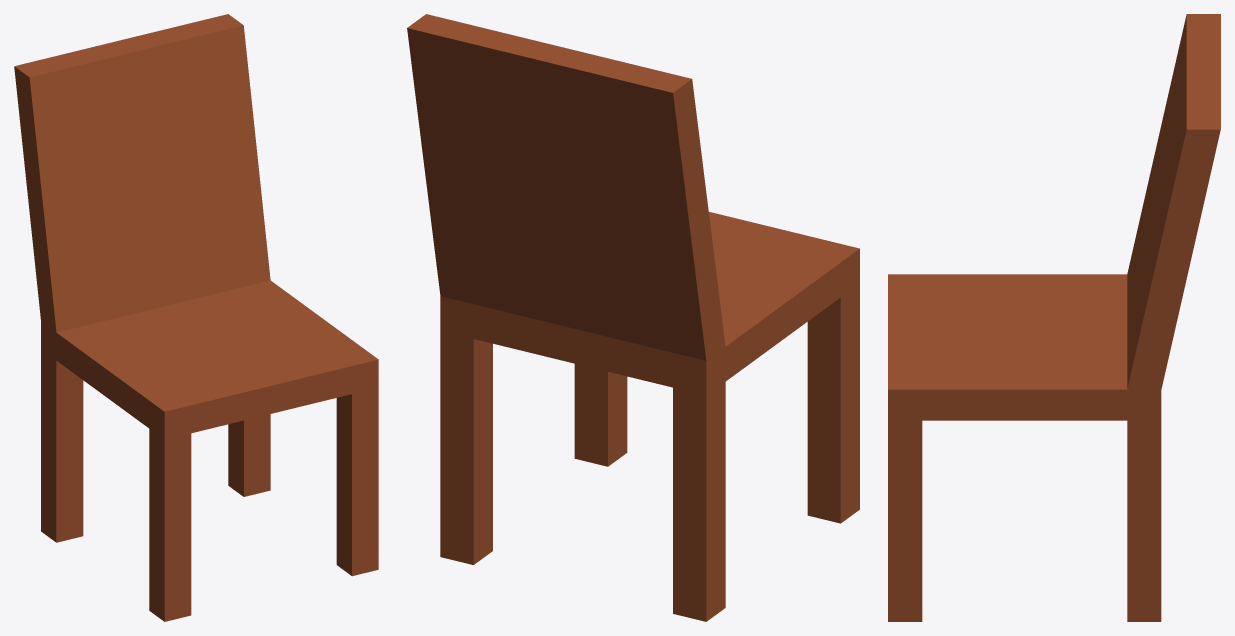
Rendered from Prop_Furniture_Fantasy_Dungeon_Chair_Wooden_04.FBX.
The picture shows the model from 3 angles, left to right: view 1: azimuth 30°, elevation 25°; view 2: azimuth 150°, elevation 25°; view 3: azimuth 270°, elevation 25°; orthographic projection. The views are drawn at different scales.
Visible parts, largest first — view 1: Prop_Furniture_Fantasy_Dungeon_Chair_Wooden_04; view 2: Prop_Furniture_Fantasy_Dungeon_Chair_Wooden_04; view 3: Prop_Furniture_Fantasy_Dungeon_Chair_Wooden_04.
Part boxes in pixels (<box>): Prop_Furniture_Fantasy_Dungeon_Chair_Wooden_04: <box>14,14,378,621</box>; Prop_Furniture_Fantasy_Dungeon_Chair_Wooden_04: <box>407,14,859,621</box>; Prop_Furniture_Fantasy_Dungeon_Chair_Wooden_04: <box>888,14,1220,621</box>.
Bounding box in the file's own units: 413 × 822 × 503.
